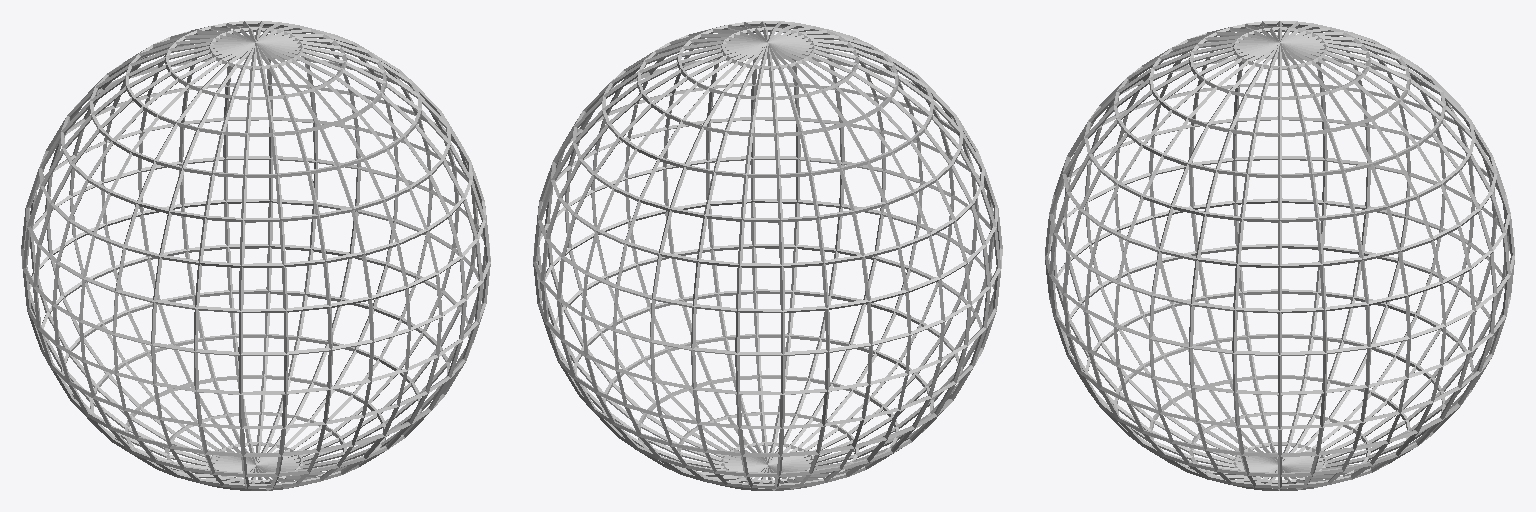
Rendered from Globe copy.obj.
3 views of the same model, side by side, from view 1: azimuth 30°, elevation 25°; view 2: azimuth 150°, elevation 25°; view 3: azimuth 270°, elevation 25° (orthographic).
Parts seen in each view (by area): view 1: Sphere; view 2: Sphere; view 3: Sphere.
Part boxes in pixels (left/top/right/bottom): Sphere: left=21, top=21, right=490, bottom=490; Sphere: left=533, top=21, right=1002, bottom=490; Sphere: left=1045, top=21, right=1514, bottom=490.
Size of the model in its own units: 2.02 by 2.02 by 2.02.